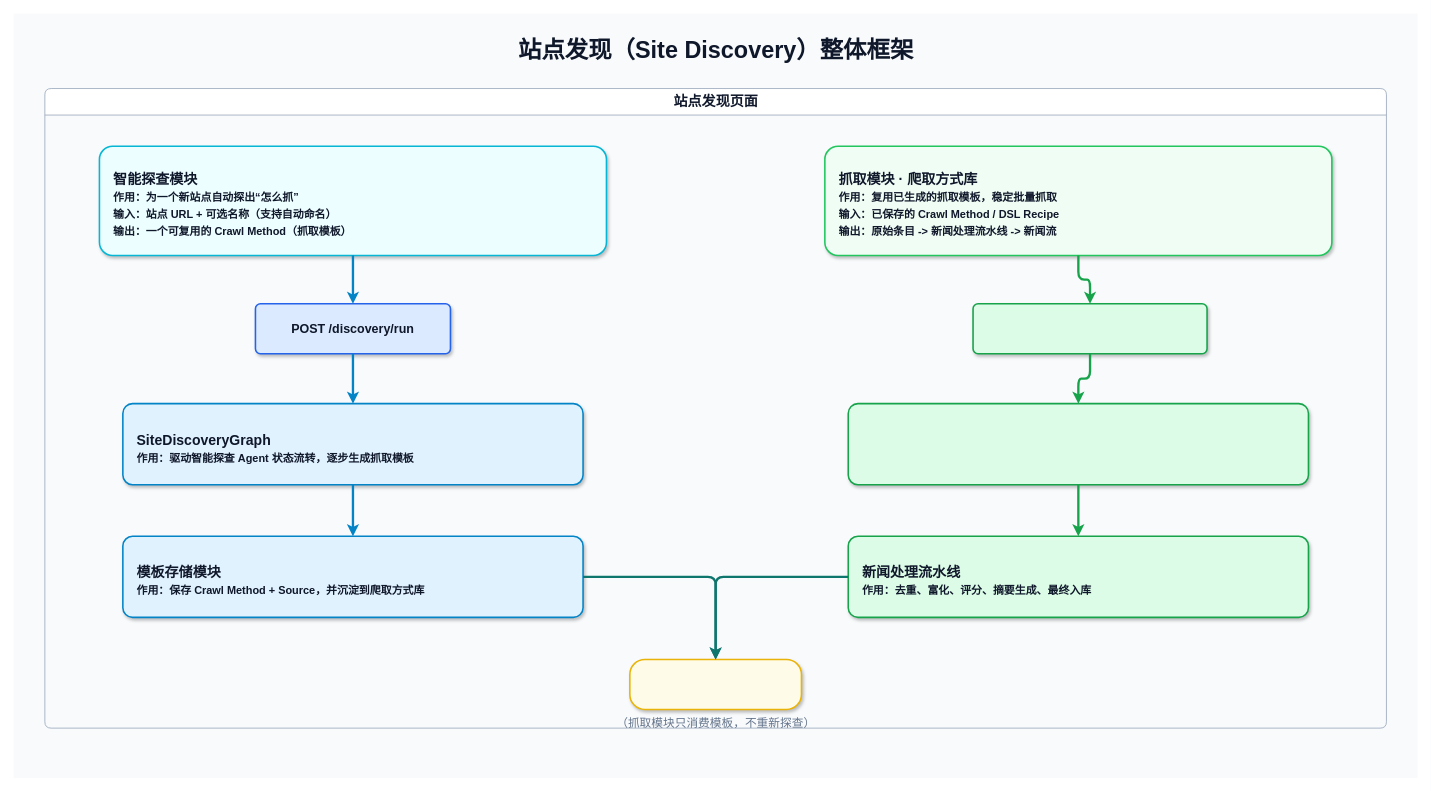
Image size: 1431x791. Some labels were removed from this diagram. The shapes that lost their labels are listed below. From the top down, each one's centre as x and y in pixels, then its label:
pixel 1090 330: POST /discovery/methods/{id}/fetch
pixel 1079 445: DSL 解释执行器 作用：按模板中的 fetch / extract / dedup 执行抓取
pixel 716 685: 爬取方式库
